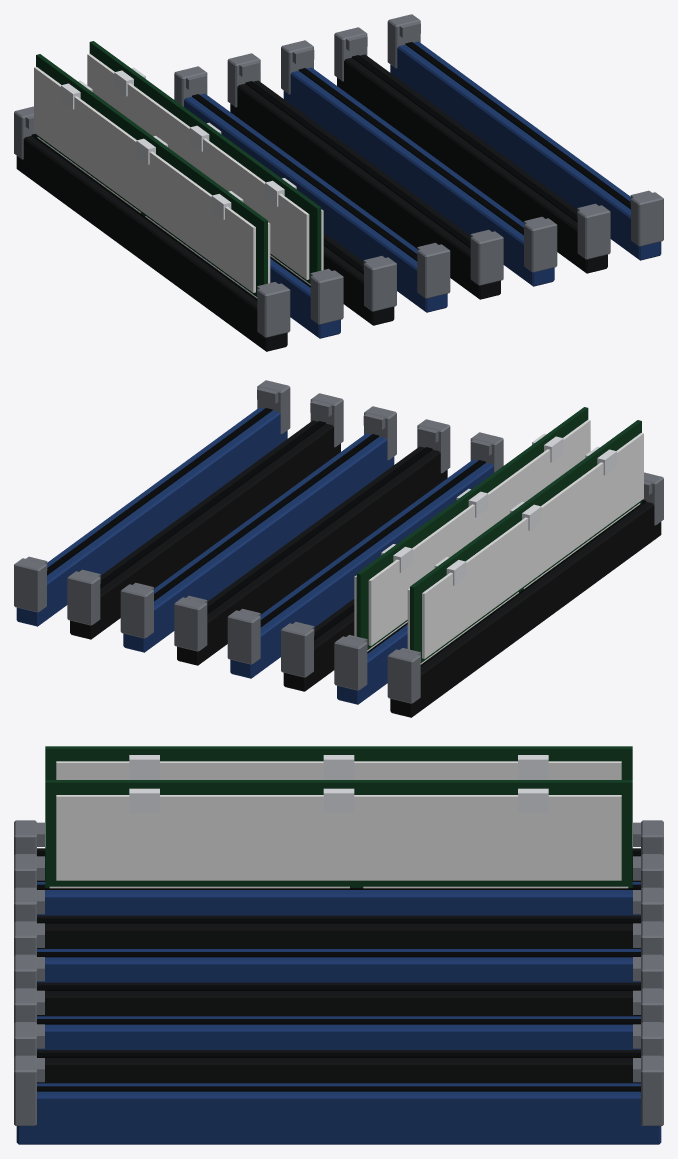
Rendered from hwm_ram_ddr2_8gb.glb.
3 renders of one model, top to bottom at view 1: azimuth 30°, elevation 25°; view 2: azimuth 150°, elevation 25°; view 3: azimuth 270°, elevation 25°, orthographic. The views are drawn at different scales.
Parts seen in each view (by area): view 1: Slots, Stick_0, Stick_1, Latch_1_1, Latch_4_1, Latch_6_1, Latch_5_1, Latch_0_1, Latch_3_1, Latch_7_1, Latch_2_1, Latch_4_0 (+5 smaller); view 2: Slots, Stick_0, Stick_1, Latch_1_0, Latch_4_0, Latch_6_0, Latch_5_0, Latch_0_0, Latch_3_0, Latch_7_0, Latch_2_0, Latch_4_1 (+5 smaller); view 3: Slots, Stick_1, Stick_0, Latch_7_0, Latch_7_1, Latch_2_0, Latch_2_1, Latch_4_0, Latch_4_1, Latch_0_0, Latch_0_1, Latch_5_0 (+7 smaller).
Boxes of the visible parts, x1,y1,x2,y2 form: Slots: [16, 41, 661, 351]; Stick_0: [34, 54, 270, 298]; Stick_1: [87, 41, 323, 285]; Latch_1_1: [310, 268, 343, 324]; Latch_4_1: [470, 229, 503, 285]; Latch_6_1: [577, 203, 610, 259]; Latch_5_1: [524, 216, 557, 272]; Latch_0_1: [257, 282, 290, 337]; Latch_3_1: [417, 242, 450, 298]; Latch_7_1: [630, 190, 663, 246]; Latch_2_1: [363, 256, 396, 311]; Latch_4_0: [227, 53, 260, 107]; Slots: [16, 407, 661, 717]; Stick_0: [407, 420, 643, 664]; Stick_1: [354, 407, 590, 651]; Latch_1_0: [334, 634, 367, 690]; Latch_4_0: [174, 595, 207, 651]; Latch_6_0: [67, 569, 100, 625]; Latch_5_0: [120, 582, 153, 638]; Latch_0_0: [387, 648, 420, 703]; Latch_3_0: [227, 608, 260, 664]; Latch_7_0: [14, 556, 47, 612]; Latch_2_0: [281, 622, 314, 677]; Latch_4_1: [417, 419, 450, 473]; Slots: [16, 848, 661, 1144]; Stick_1: [45, 780, 632, 888]; Stick_0: [45, 746, 632, 779]; Latch_7_0: [633, 1055, 663, 1125]; Latch_7_1: [14, 1055, 44, 1125]; Latch_2_0: [633, 887, 663, 922]; Latch_2_1: [14, 887, 44, 922]; Latch_4_0: [633, 954, 663, 989]; Latch_4_1: [14, 954, 44, 989]; Latch_0_0: [633, 820, 663, 855]; Latch_0_1: [14, 820, 44, 855]; Latch_5_0: [633, 988, 663, 1022].
Size of the model in its own units: 0.1346 by 0.0389 by 0.1472.
